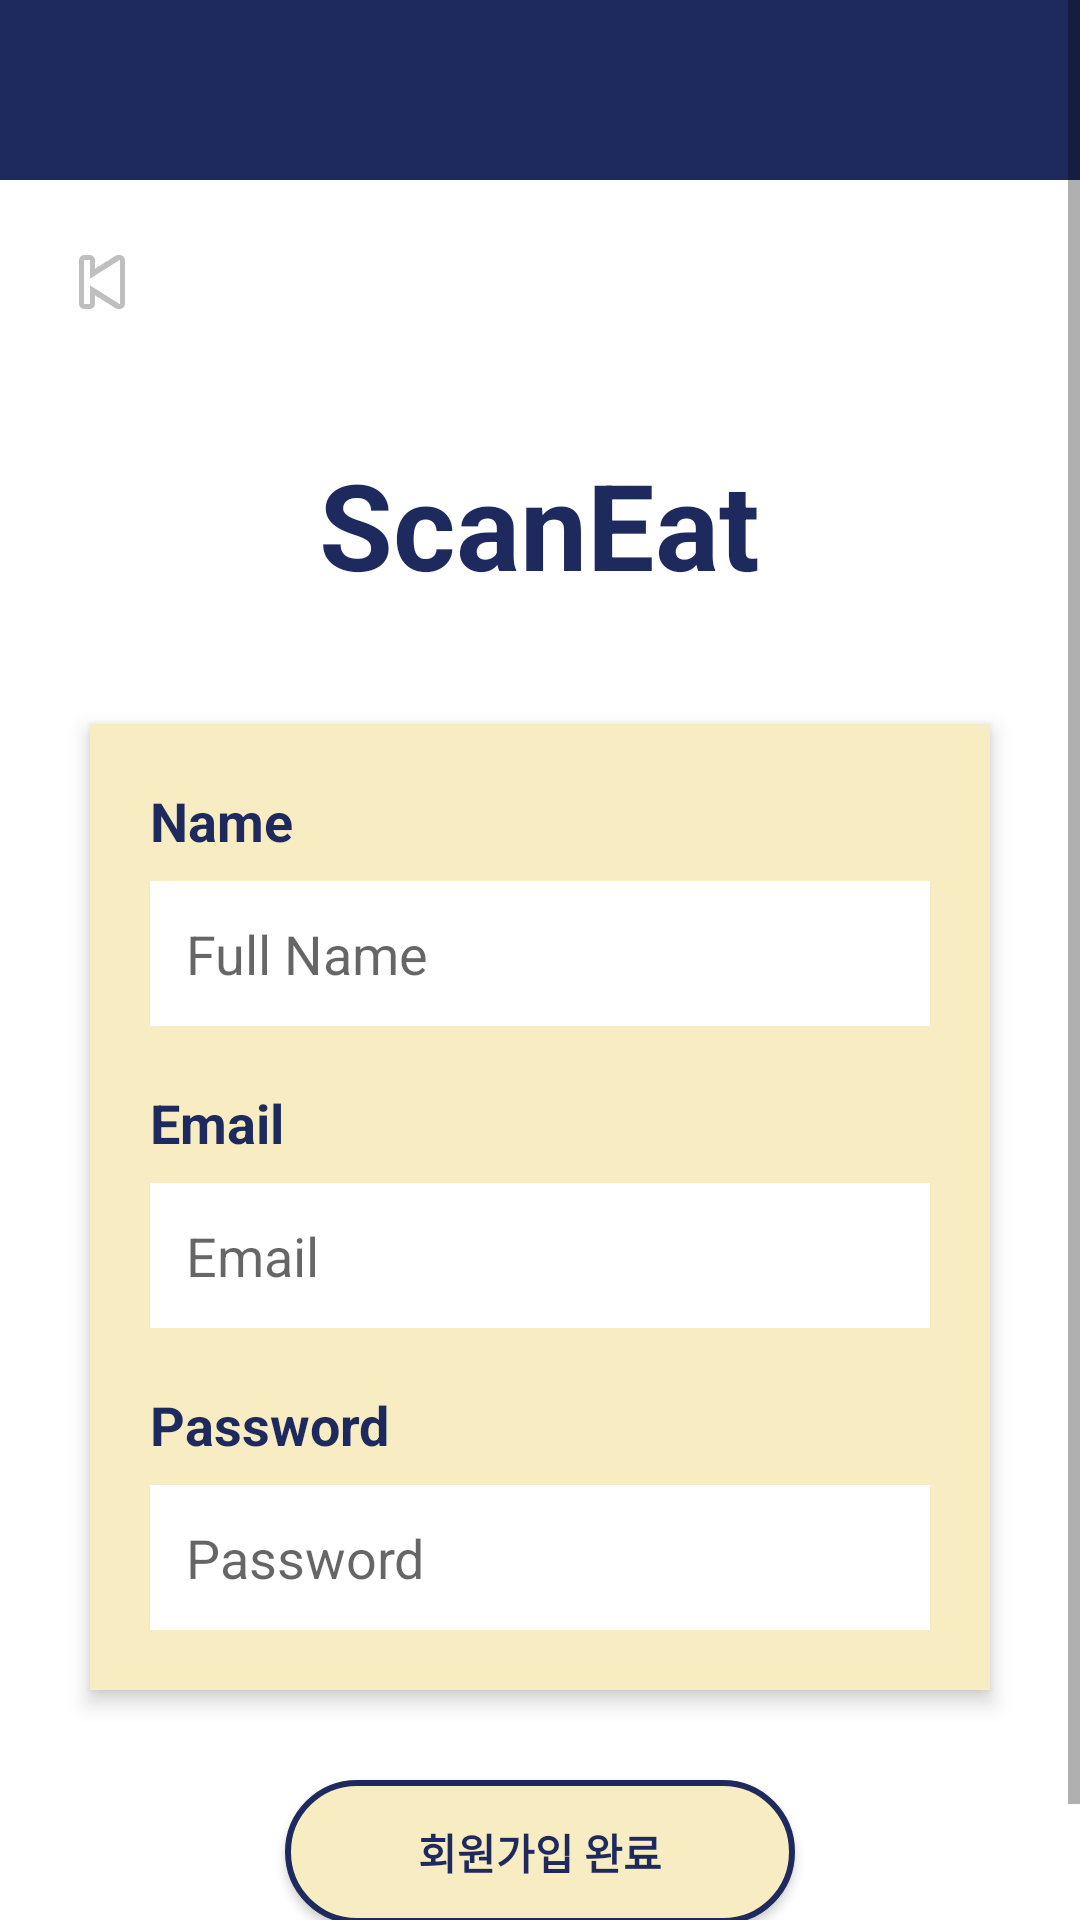

Point at icon controls on the screen. Image size 1080px x 1920px, points as [x,y].
previous: [102,282]
